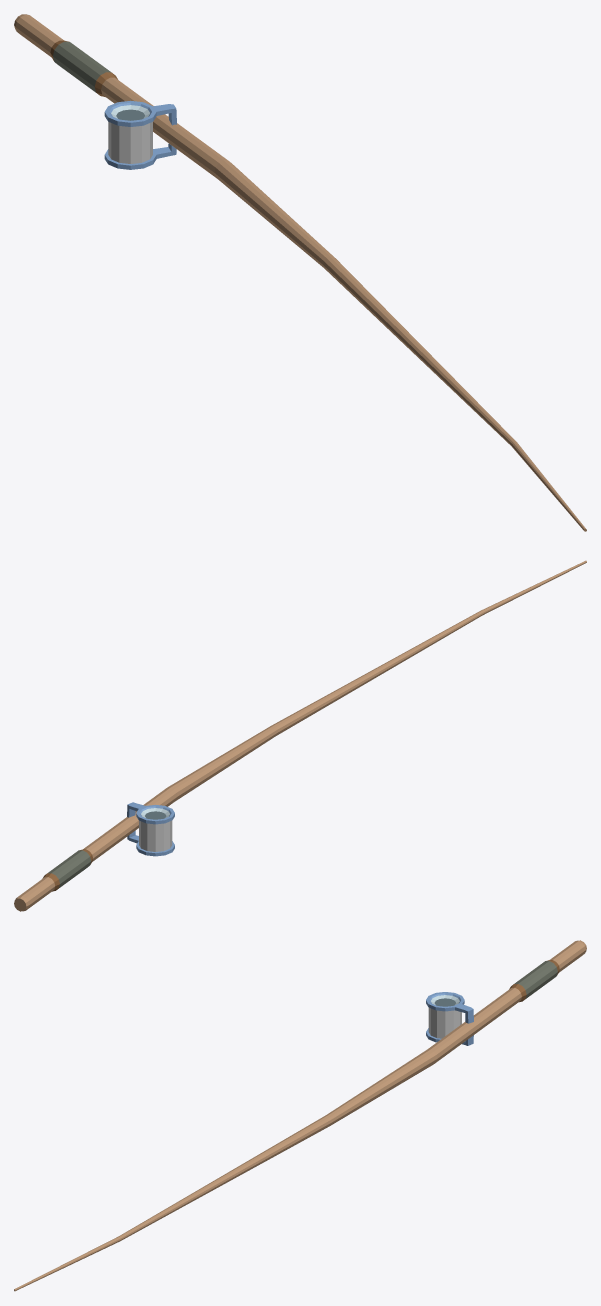
File: Fishing_Rod.glb
The picture shows the model from 3 angles, top to bottom: view 1: azimuth 30°, elevation 25°; view 2: azimuth 150°, elevation 25°; view 3: azimuth 330°, elevation 25°; orthographic projection. The views are drawn at different scales.
Parts seen in each view (by area): view 1: Fishing_Rod; view 2: Fishing_Rod; view 3: Fishing_Rod.
Boxes of the visible parts, bbox=[...] form: Fishing_Rod: bbox=[14, 14, 586, 531]; Fishing_Rod: bbox=[14, 560, 586, 911]; Fishing_Rod: bbox=[14, 940, 586, 1291].
Size of the model in its own units: 0.2441 by 0.1 by 2.54.
Materials: 1 (1 with a texture image).
